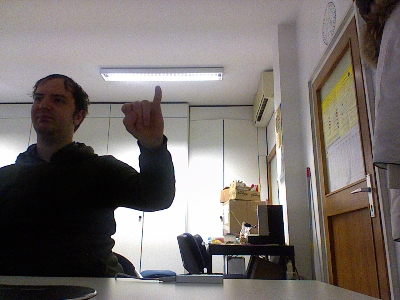小指: (119, 83, 166, 145)
